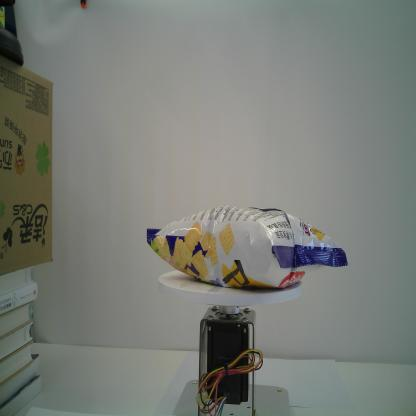Puffed Food: (146, 206, 348, 289)
